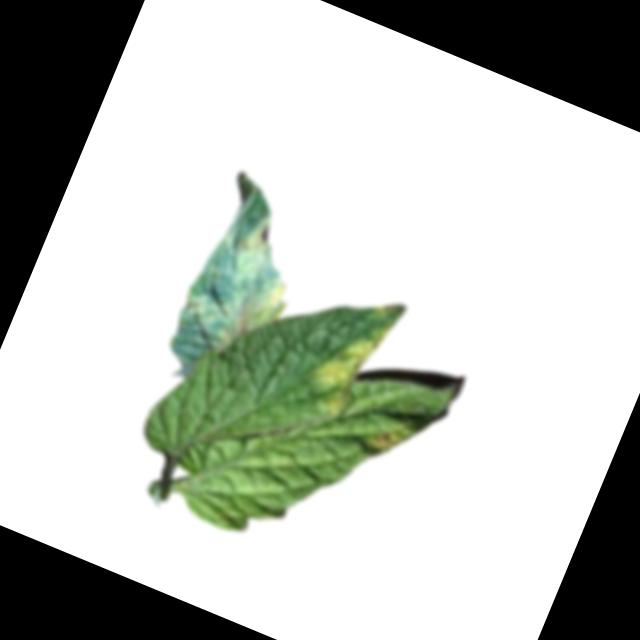Leaf_Mold: (302, 282, 396, 422), (208, 264, 294, 367), (229, 208, 281, 271), (356, 418, 404, 464)
